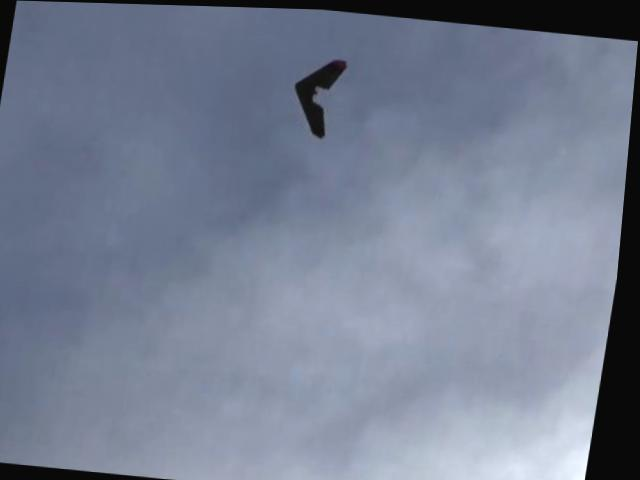flying wing: (286, 47, 352, 142)
